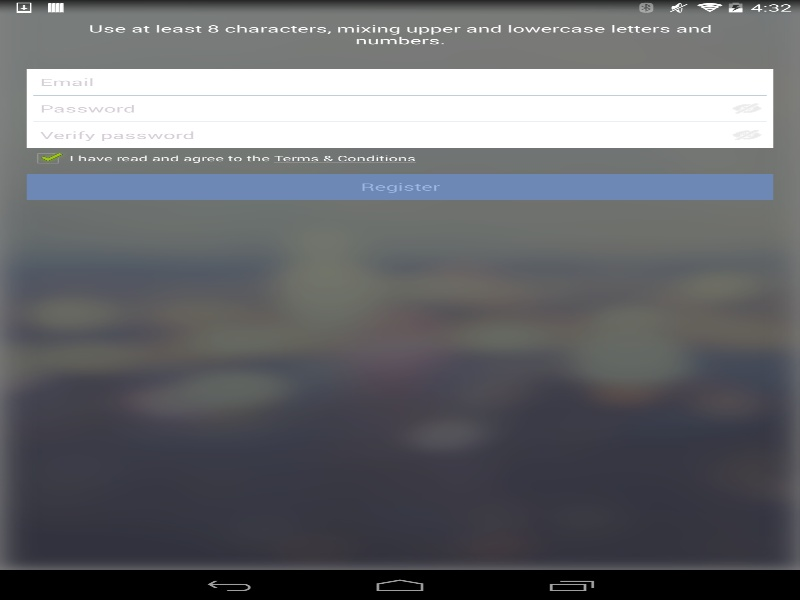Input: (26, 95, 773, 121), (26, 122, 773, 148), (26, 69, 720, 95)
